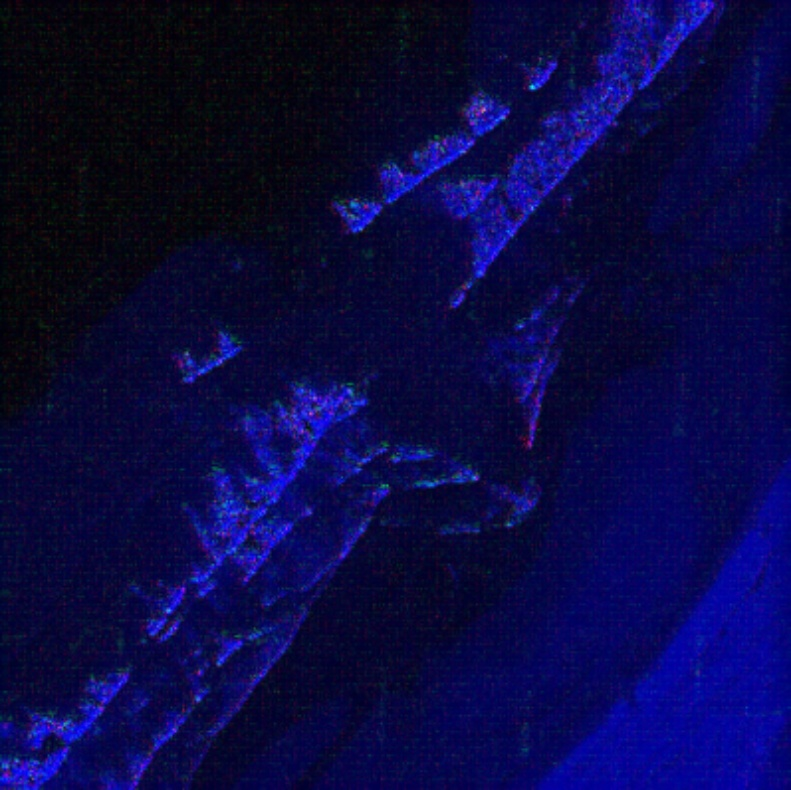rip_current: (171, 192, 558, 478)
